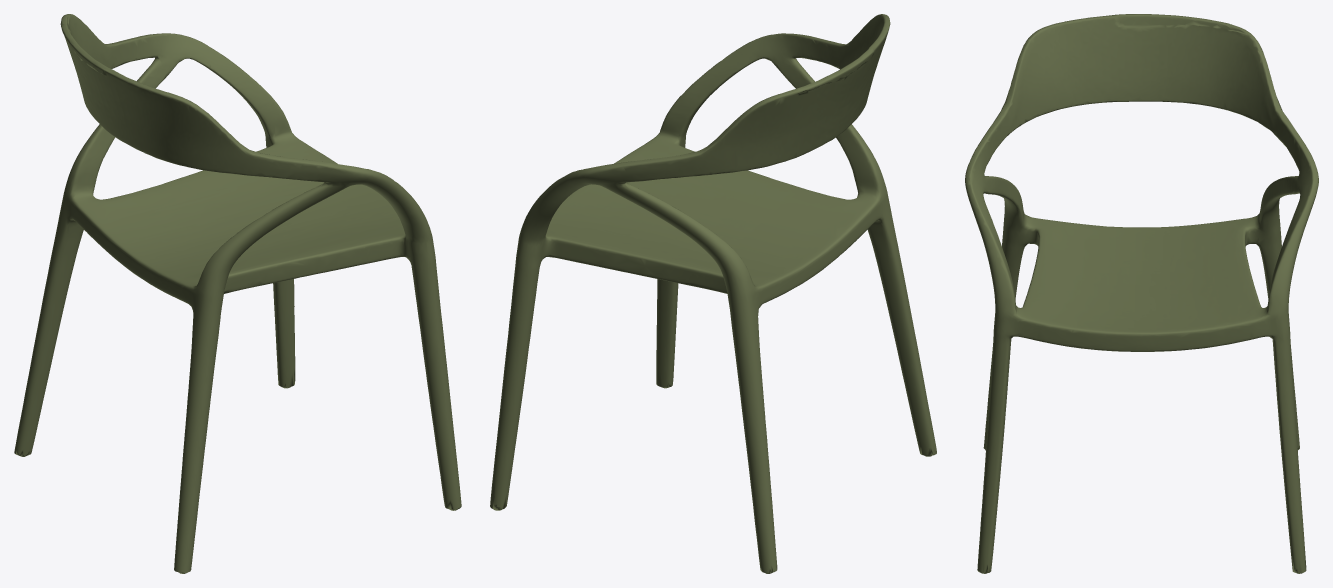
The model's file is ND-0606__Grace_30.glb.
The picture shows the model from 3 angles, left to right: view 1: azimuth 30°, elevation 25°; view 2: azimuth 150°, elevation 25°; view 3: azimuth 270°, elevation 25°; orthographic projection. The views are drawn at different scales.
Visible parts, largest first — view 1: tripo_node_2e22271b-d331-4cb1-b050-75c7afa1819d; view 2: tripo_node_2e22271b-d331-4cb1-b050-75c7afa1819d; view 3: tripo_node_2e22271b-d331-4cb1-b050-75c7afa1819d.
Boxes of the visible parts, x1,y1,x2,y2 form: tripo_node_2e22271b-d331-4cb1-b050-75c7afa1819d: [14, 14, 461, 573]; tripo_node_2e22271b-d331-4cb1-b050-75c7afa1819d: [490, 14, 936, 573]; tripo_node_2e22271b-d331-4cb1-b050-75c7afa1819d: [965, 14, 1318, 573].
Size of the model in its own units: 0.6463 by 0.9809 by 0.7289.
